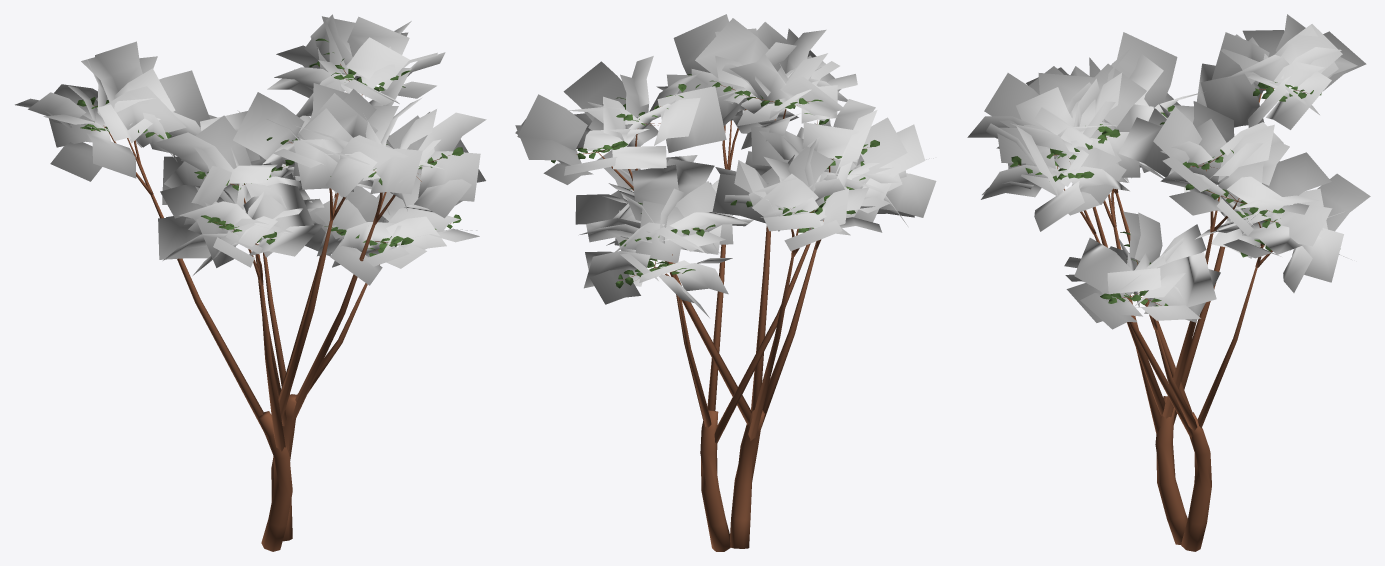
The model's file is V7_Arbousier_2_Niveau0.fbx.
The picture shows the model from 3 angles, left to right: view 1: azimuth 30°, elevation 25°; view 2: azimuth 150°, elevation 25°; view 3: azimuth 270°, elevation 25°; orthographic projection. The views are drawn at different scales.
Parts seen in each view (by area): view 1: V7_Arbousier_2; view 2: V7_Arbousier_2; view 3: V7_Arbousier_2.
Part boxes in pixels (bbox=[...]): V7_Arbousier_2: bbox=[15, 14, 486, 551]; V7_Arbousier_2: bbox=[515, 14, 936, 551]; V7_Arbousier_2: bbox=[967, 14, 1370, 551].
Size of the model in its own units: 357 by 433 by 330.
